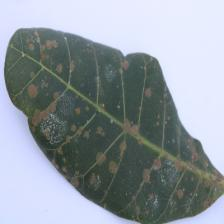red rust: (4, 27, 224, 224)
